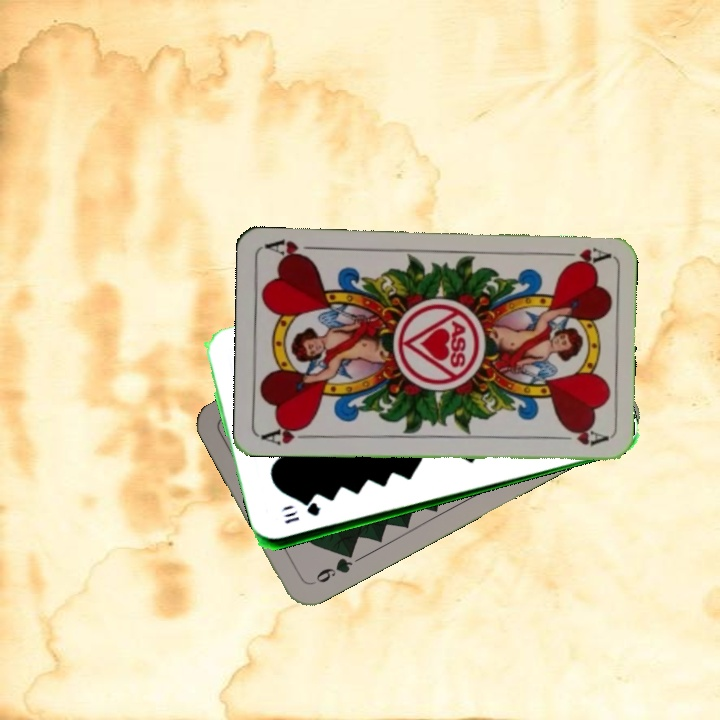G10: (280, 502, 323, 527)
G9: (311, 546, 357, 586)
HA: (258, 421, 317, 448), (552, 243, 611, 267)
